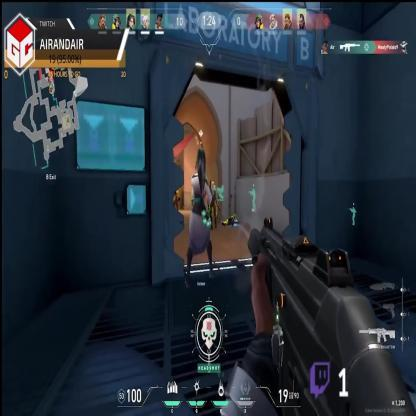enemy: (206, 181, 218, 228), (172, 184, 180, 216)
enemy_head: (211, 181, 215, 190), (173, 184, 177, 191)
